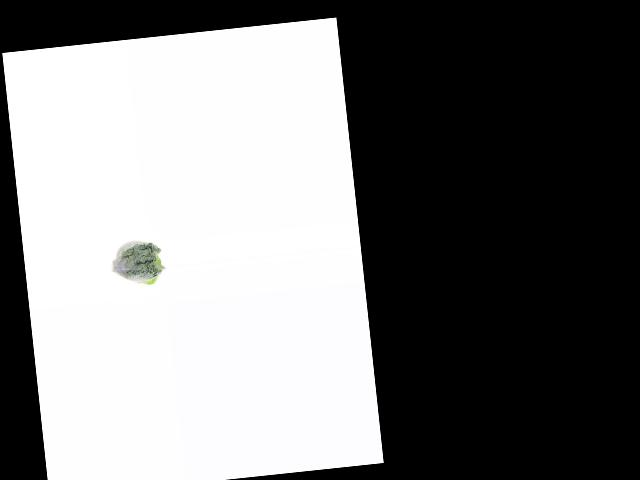lettuce: (109, 236, 165, 290)
